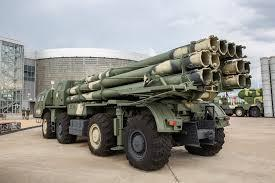MIL_SAM_TEL: (33, 35, 255, 167)
